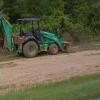Tractor: (7, 11, 74, 61)
